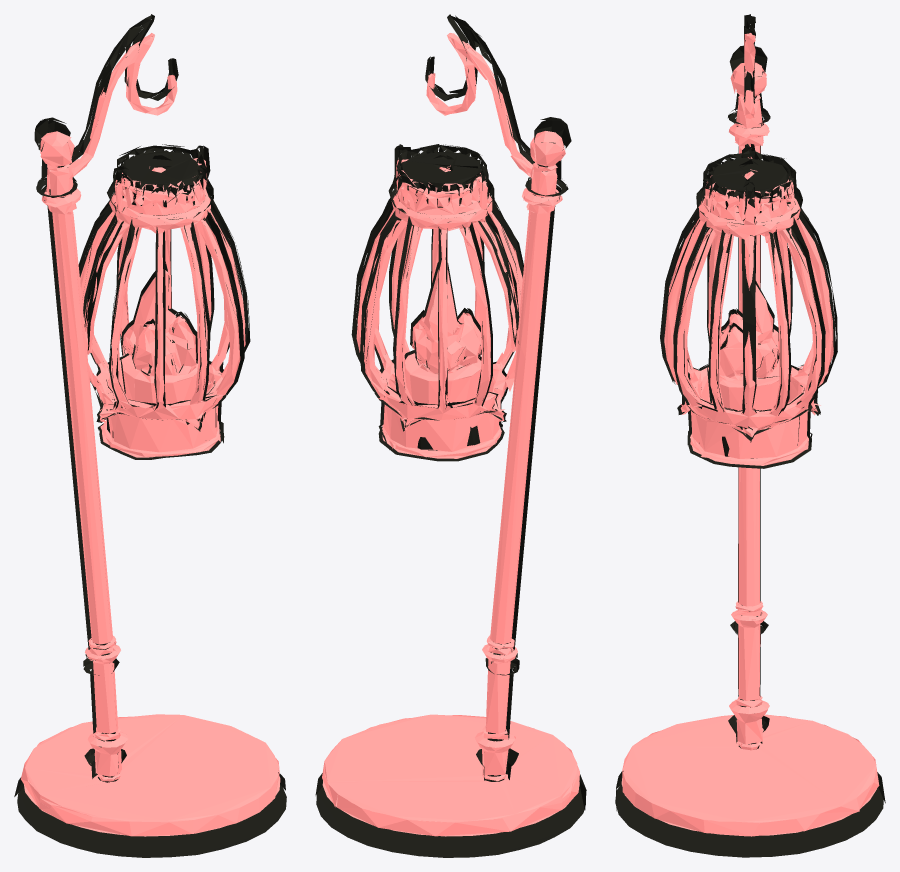
The model's file is df_v2_torch_prop_f_a.glb.
The picture shows the model from 3 angles, left to right: view 1: azimuth 30°, elevation 25°; view 2: azimuth 150°, elevation 25°; view 3: azimuth 270°, elevation 25°; orthographic projection.
Visible parts, largest first — view 1: torch_prop_f_mesh_01, torch_prop_f_mesh_01_ink_outline; view 2: torch_prop_f_mesh_01, torch_prop_f_mesh_01_ink_outline; view 3: torch_prop_f_mesh_01, torch_prop_f_mesh_01_ink_outline.
Part boxes in pixels (x1,y1,x2,y2): torch_prop_f_mesh_01: (21,33,280,836); torch_prop_f_mesh_01_ink_outline: (14,14,286,857); torch_prop_f_mesh_01: (322,33,579,836); torch_prop_f_mesh_01_ink_outline: (315,14,586,857); torch_prop_f_mesh_01: (621,33,879,836); torch_prop_f_mesh_01_ink_outline: (615,14,885,857).
Bounding box in the file's own units: 1.16 × 3.69 × 1.15.
